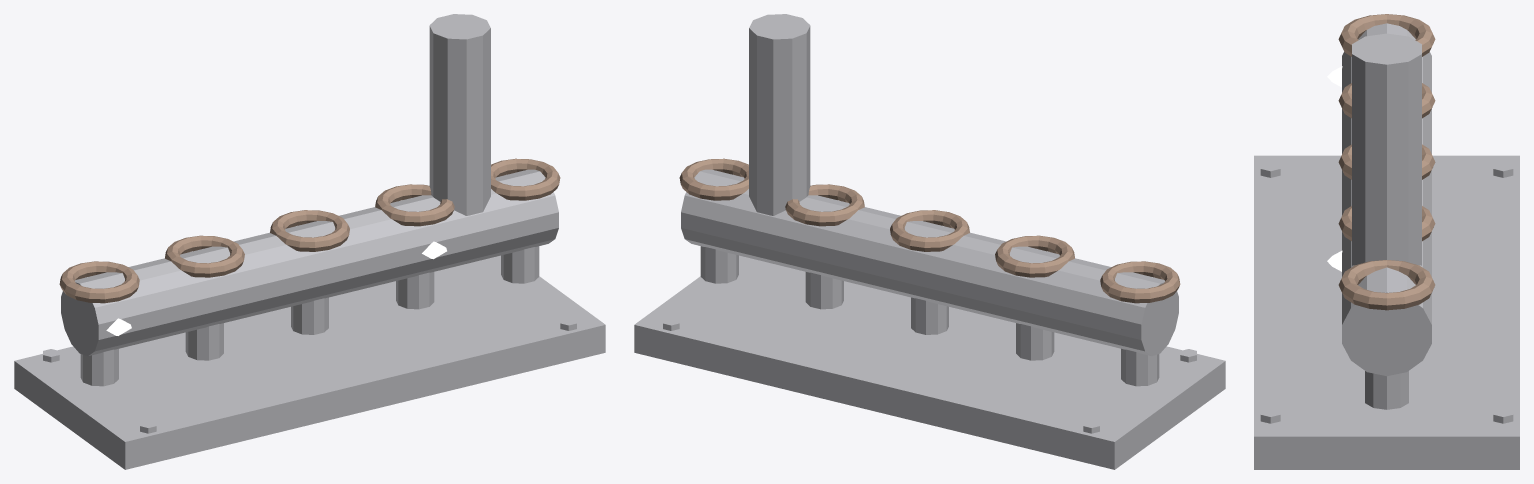
File: pipeline_epic.glb
The picture shows the model from 3 angles, left to right: view 1: azimuth 30°, elevation 25°; view 2: azimuth 150°, elevation 25°; view 3: azimuth 270°, elevation 25°; orthographic projection. The views are drawn at different scales.
Visible parts, largest first — view 1: pipeline; view 2: pipeline; view 3: pipeline.
Boxes of the visible parts, x1,y1,x2,y2 form: pipeline: (14,14,605,469); pipeline: (634,14,1225,469); pipeline: (1254,14,1519,469).
Size of the model in its own units: 2.94 by 1.76 by 1.15.
